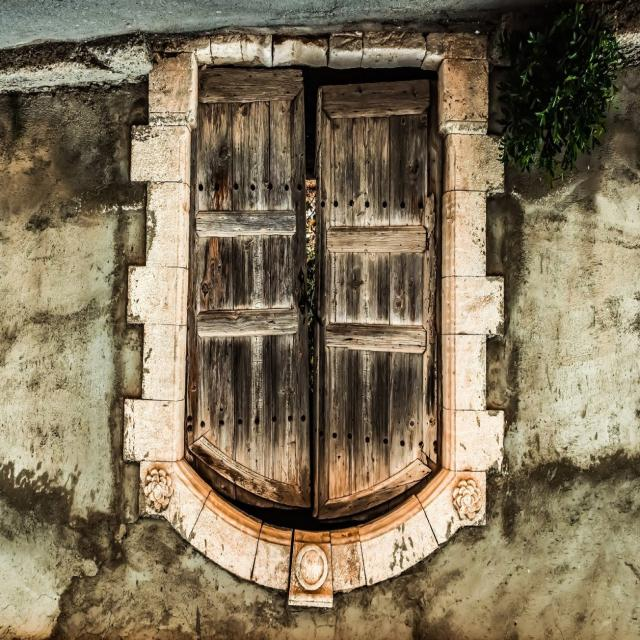close: (202, 58, 432, 486)
